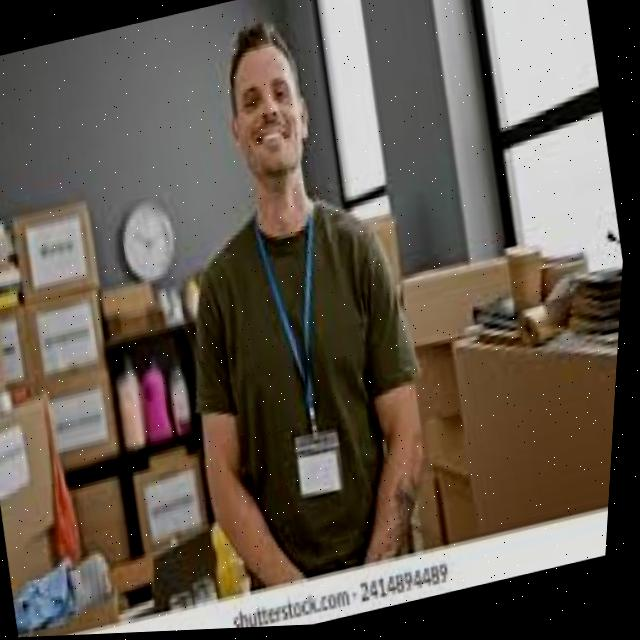id_card: (230, 200, 386, 518)
